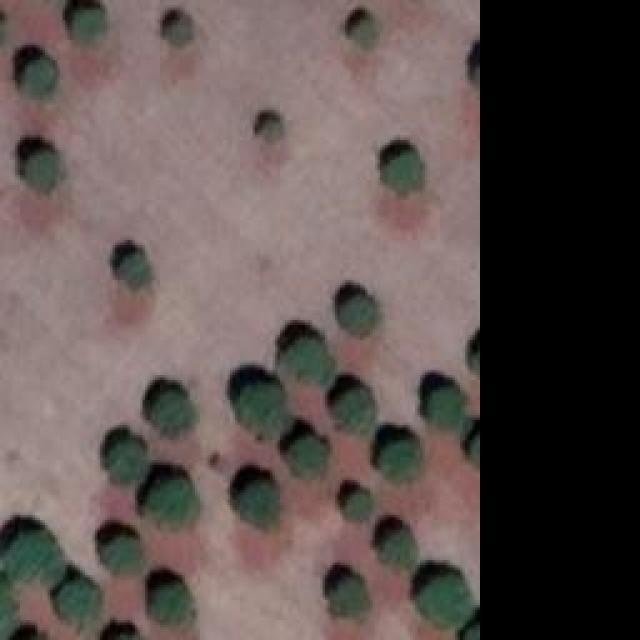Tree: (235, 383, 288, 436), (420, 577, 473, 625), (423, 378, 473, 428), (145, 480, 198, 523), (10, 533, 58, 578), (285, 338, 333, 383), (333, 390, 373, 433), (242, 480, 280, 525), (150, 393, 190, 433), (20, 55, 58, 95), (385, 150, 423, 190), (60, 582, 95, 620), (290, 437, 325, 475), (113, 443, 146, 483), (110, 535, 143, 573), (335, 577, 368, 615), (343, 295, 376, 333), (383, 443, 418, 478), (383, 530, 416, 565), (73, 8, 106, 43), (28, 150, 58, 188), (153, 588, 186, 621), (120, 253, 153, 286), (168, 15, 193, 45), (345, 492, 370, 520), (350, 20, 375, 45), (260, 120, 283, 138)
